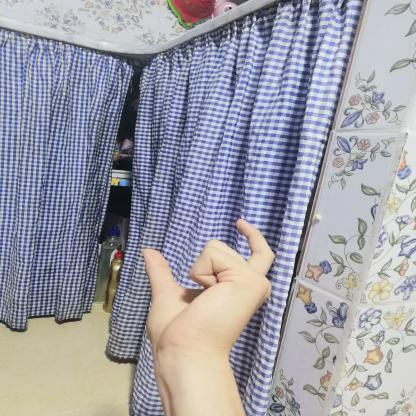NOON: (122, 204, 296, 380)
